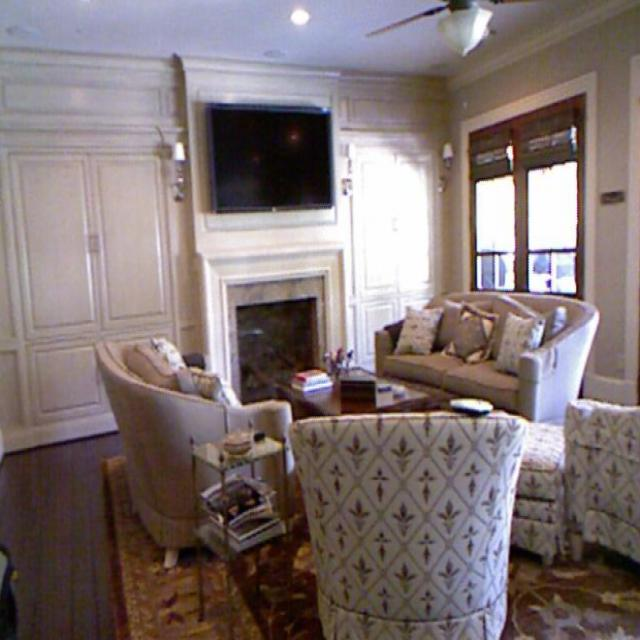a sofa: (291, 402, 552, 603), (116, 335, 284, 508), (398, 281, 590, 395)
door: (12, 151, 154, 432)
table: (270, 350, 448, 432)
television: (205, 96, 339, 217)
window: (470, 146, 581, 296)
